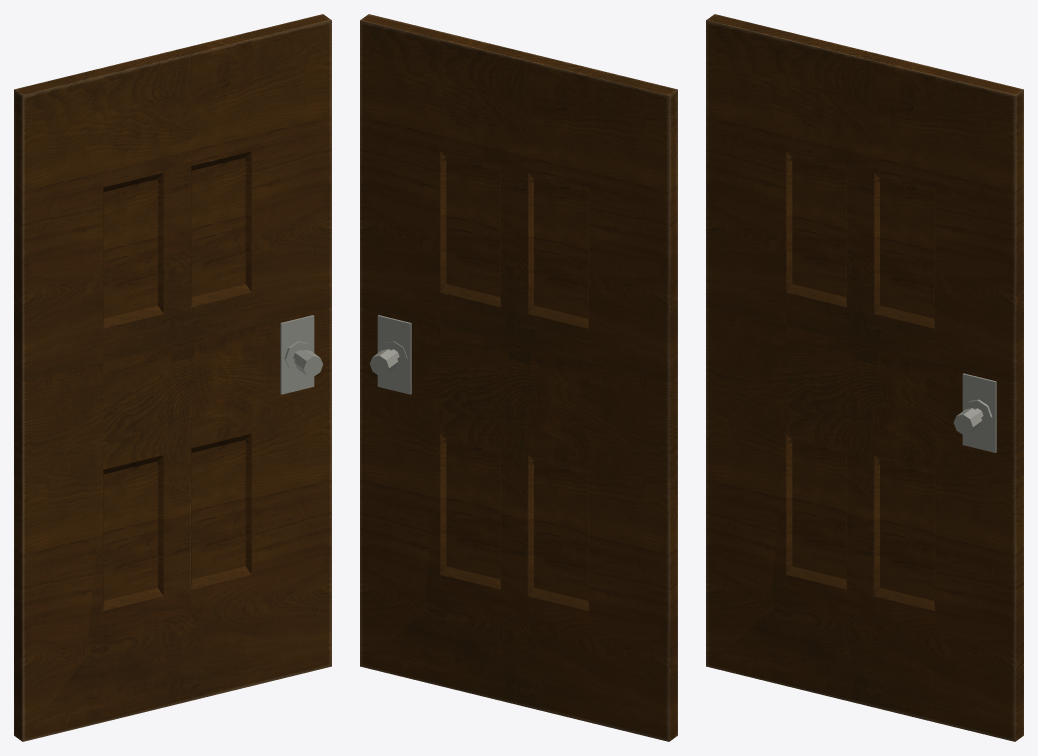
Rendered from door2.glb.
The picture shows the model from 3 angles, left to right: view 1: azimuth 30°, elevation 25°; view 2: azimuth 150°, elevation 25°; view 3: azimuth 330°, elevation 25°; orthographic projection.
Visible parts, largest first — view 1: pCylinder9; view 2: pCylinder9; view 3: pCylinder9.
Part boxes in pixels (box(x1,y1,x2,y2)): pCylinder9: box(14, 14, 331, 741); pCylinder9: box(360, 14, 677, 741); pCylinder9: box(706, 14, 1023, 741).
Size of the model in its own units: 1.57 by 3.14 by 0.3624.
Materials: 1 (1 with a texture image).
